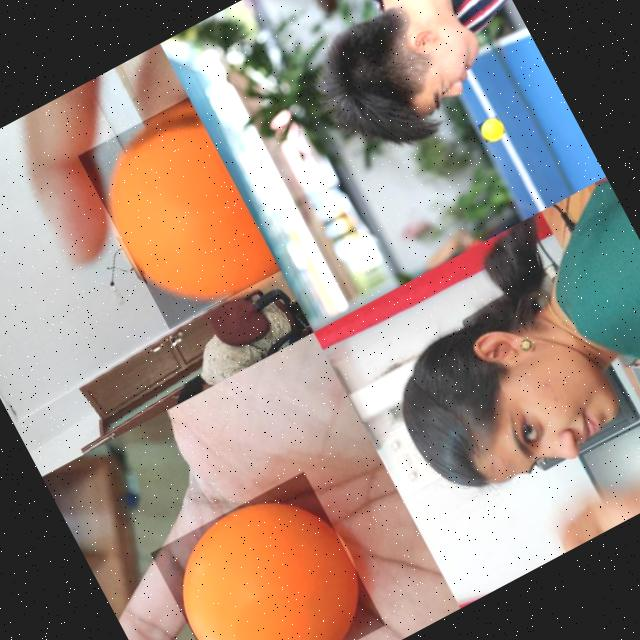ping-pong-ball: (76, 98, 280, 332), (148, 471, 385, 640), (476, 114, 506, 143)
